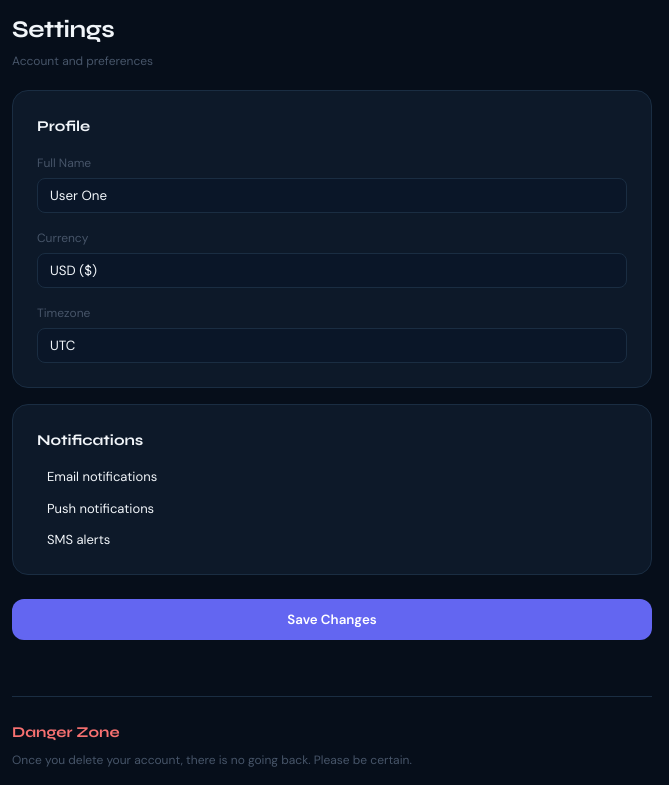
Test case: SettingsPage Component › falls back to a generic error message when profileApi.update rejects without a response shape
Expected: the field showing "User One" is shown, x1=37 y1=178 x2=627 y2=212
Click the button "Save Changes" at (332, 619), box x1=12 y1=598 x2=652 y2=640
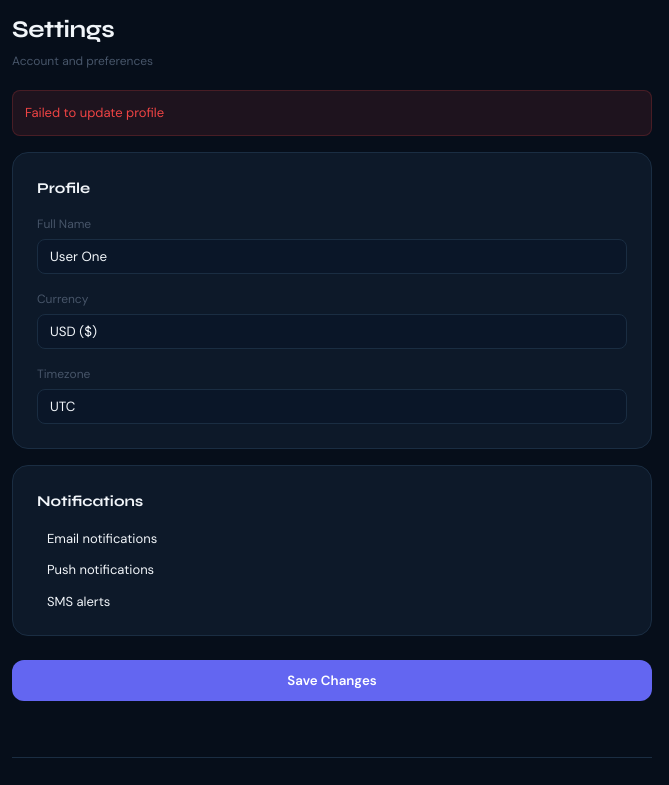
Now the text "Failed to update profile" is shown, box x1=12 y1=90 x2=652 y2=136
